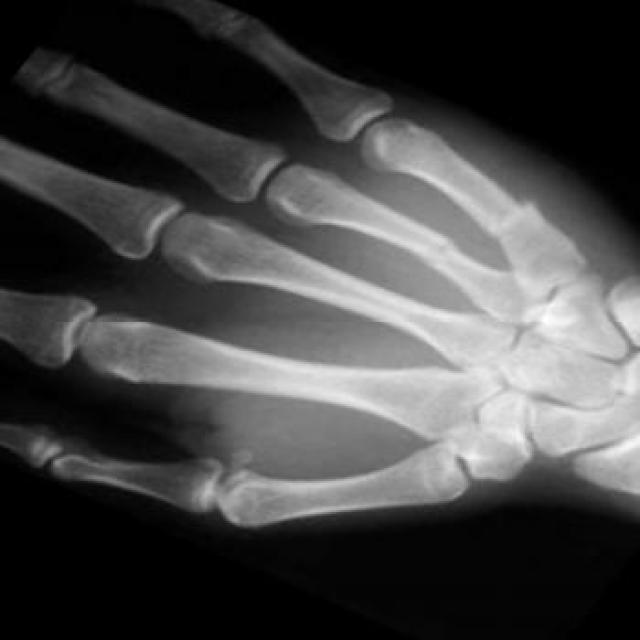Fracture: (495, 190, 557, 244), (421, 232, 466, 265)
